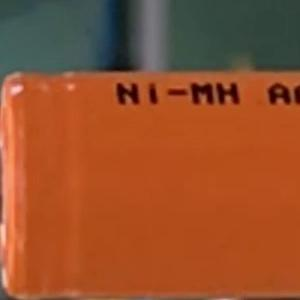NI-MH: (107, 73, 249, 114)
